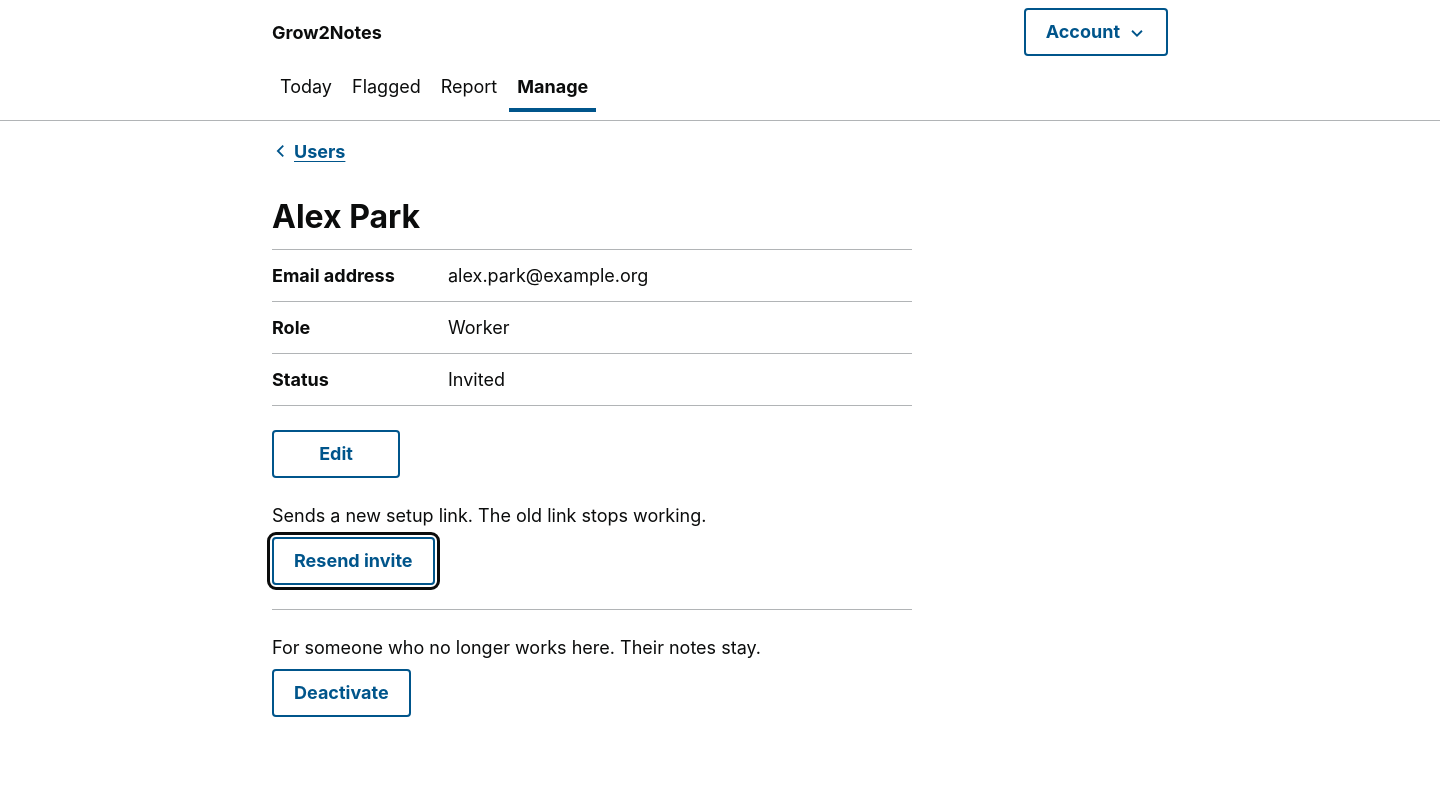
Test: Resend invite › says what a 500 means above the actions, keeps focus, and sends nothing by itself
The image size is (1440, 810).
Click the button "Resend invite".
click(353, 561)  # box [272,537,434,585]
Wait 60002 ms
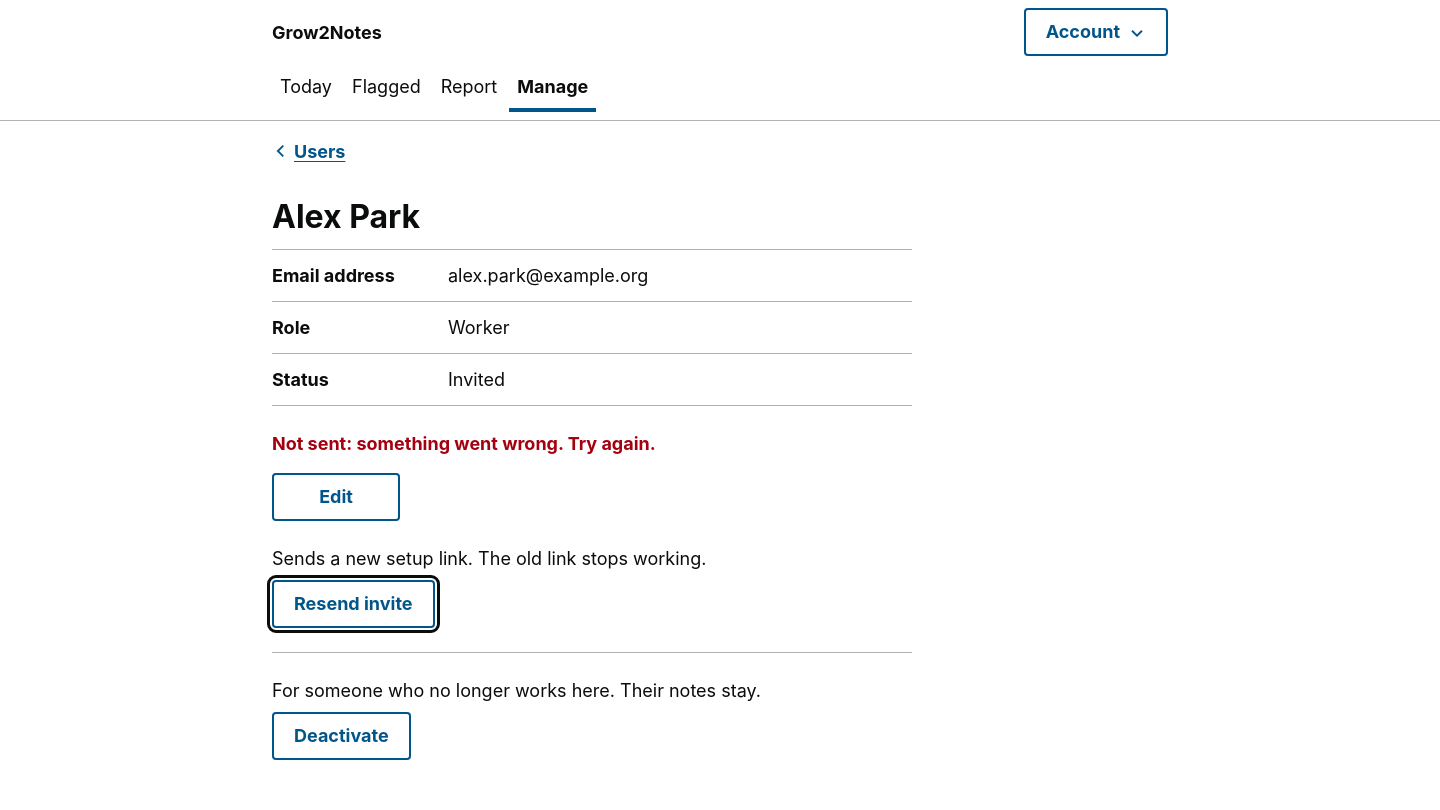
Result: the message reads "Not sent: something went wrong. Try again." at [272,433,656,454]
